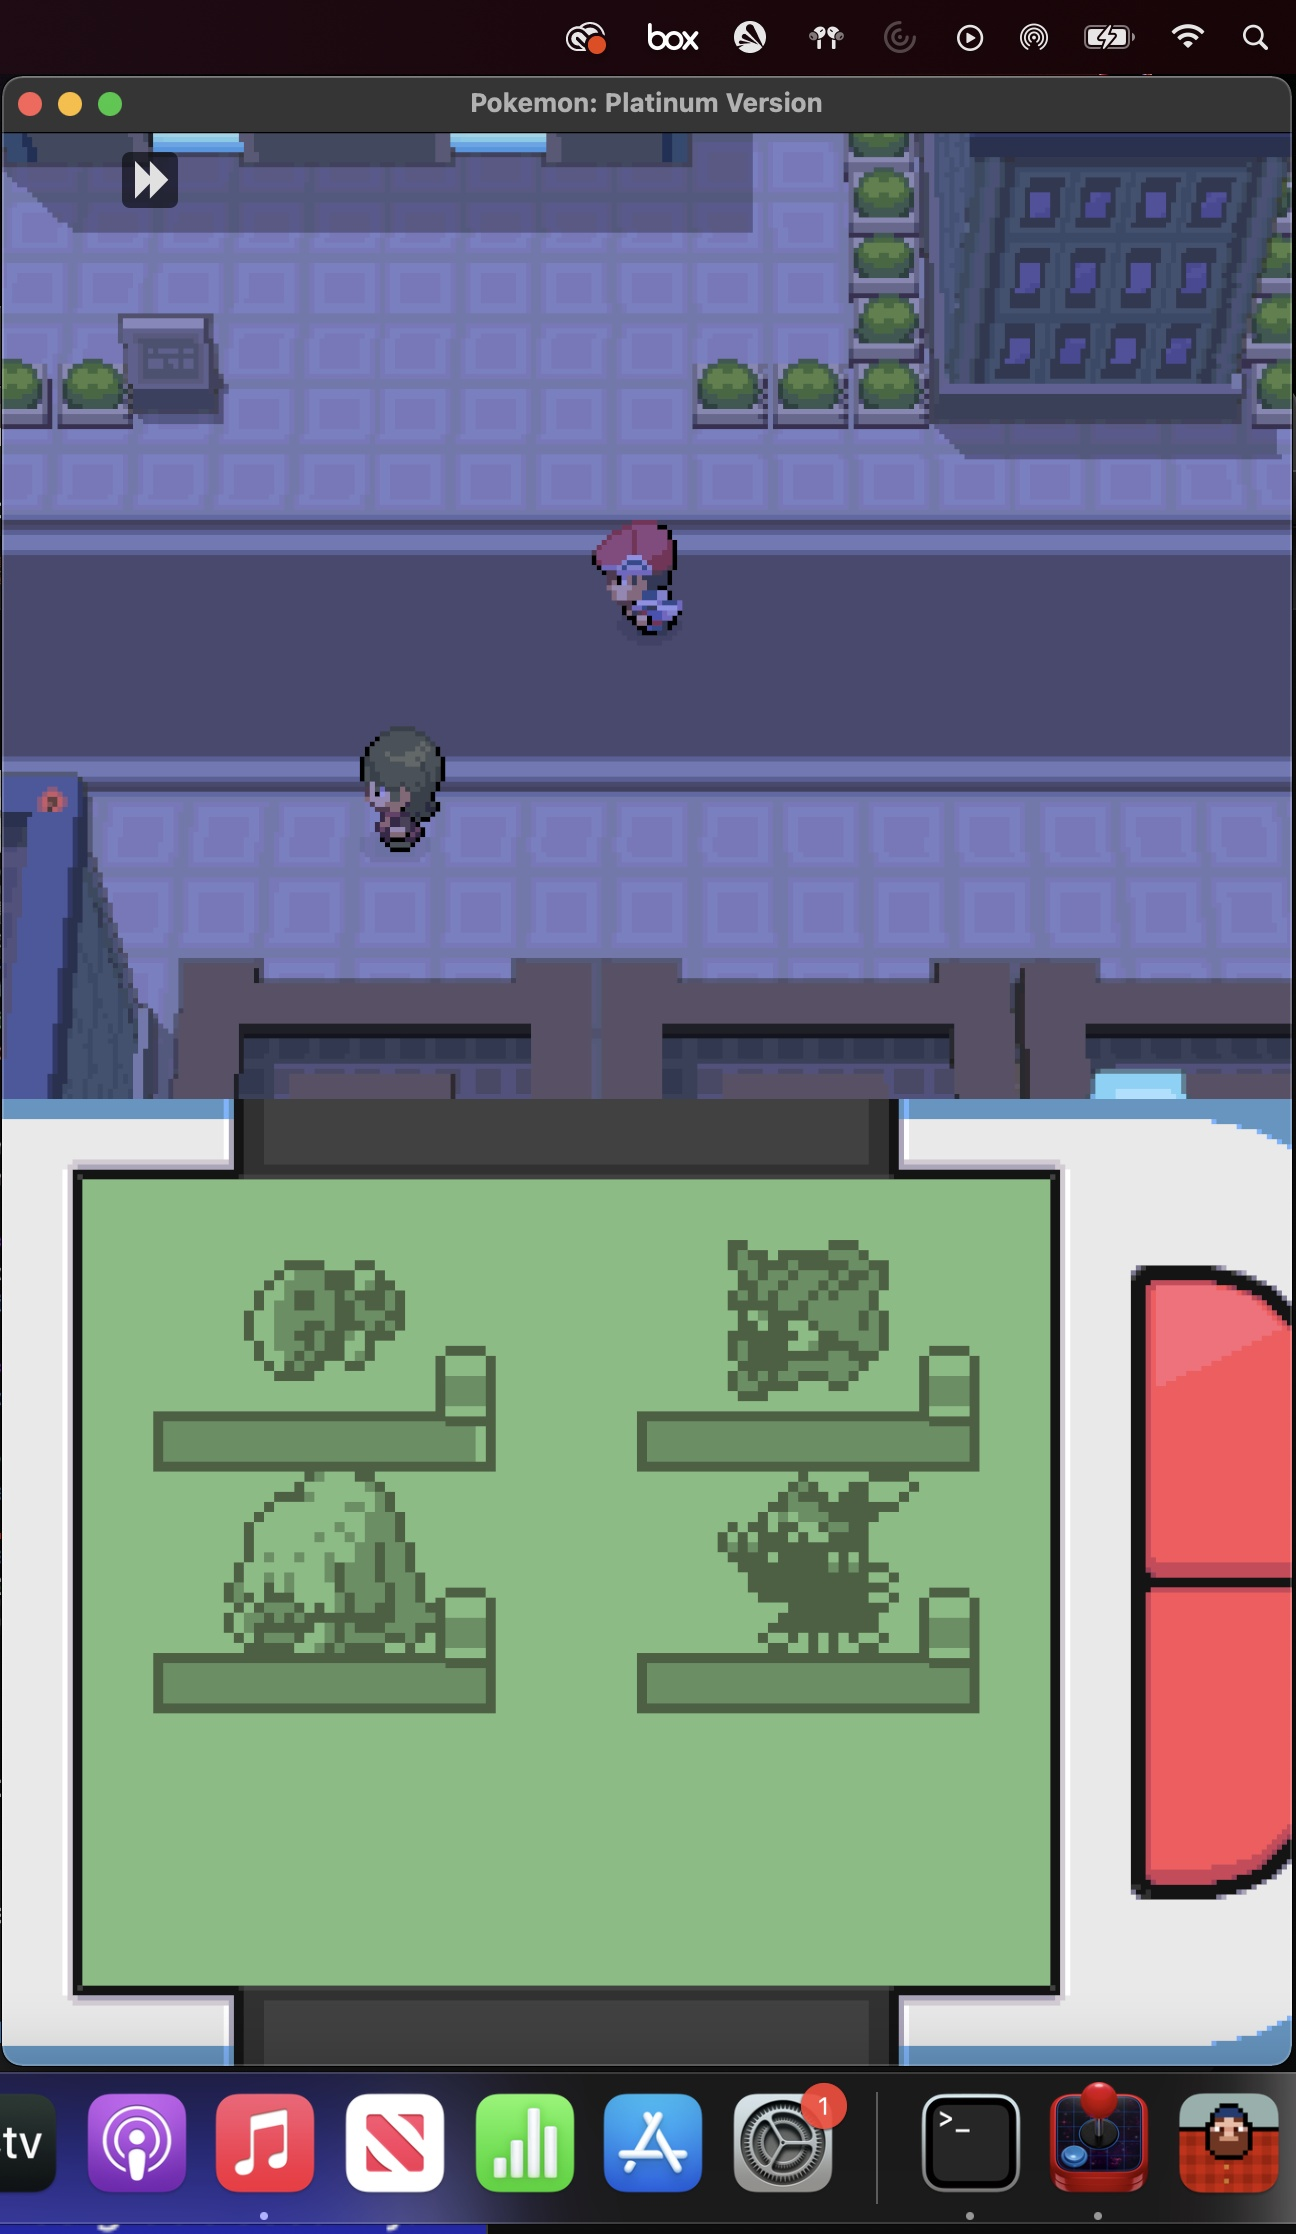player: (584, 517, 692, 646)
